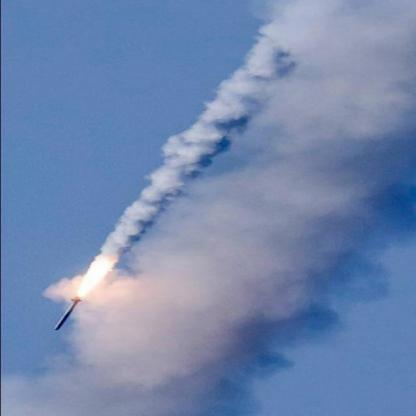MIL_TBM: (50, 294, 86, 336)
